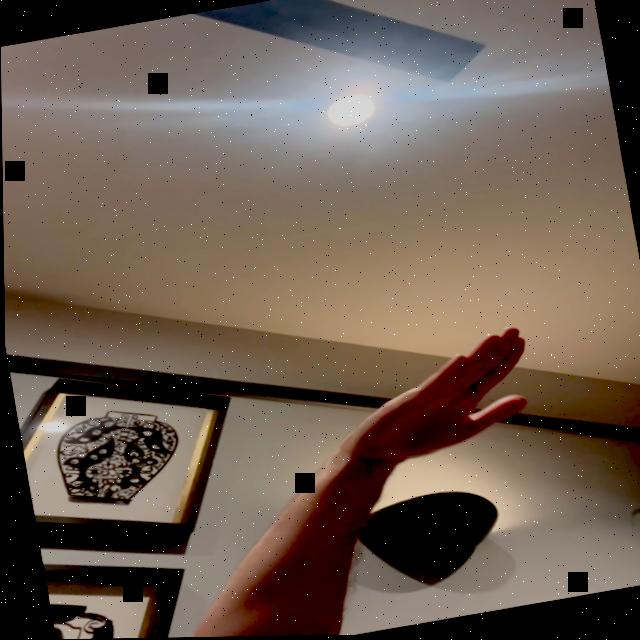Paper: (327, 323, 547, 475)
